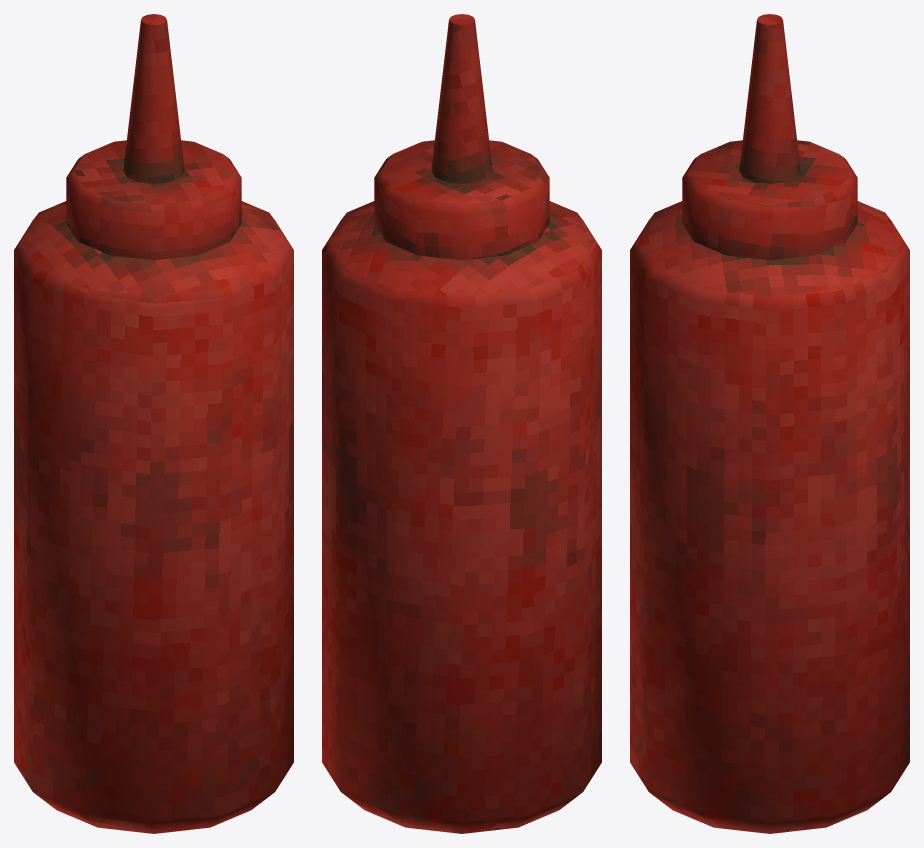
Rendered from Ketchup.fbx.
3 views of the same model, side by side, from view 1: azimuth 30°, elevation 25°; view 2: azimuth 150°, elevation 25°; view 3: azimuth 270°, elevation 25° (orthographic).
Parts seen in each view (by area): view 1: Ketchup; view 2: Ketchup; view 3: Ketchup.
Part boxes in pixels (x1,y1,x2,y2): Ketchup: [14, 14, 293, 833]; Ketchup: [322, 14, 601, 833]; Ketchup: [630, 14, 909, 833].
Size of the model in its own units: 0.1413 by 0.427 by 0.1413.
